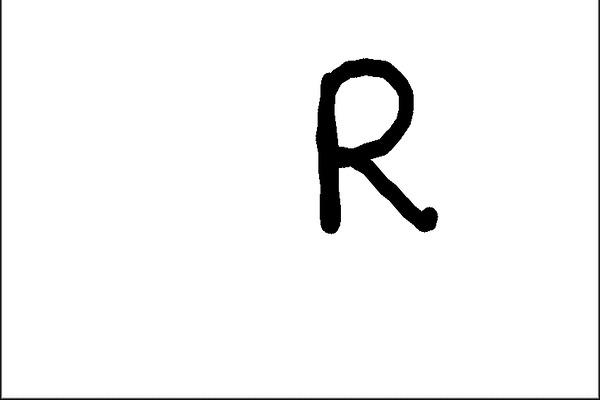R: (289, 49, 456, 247)
